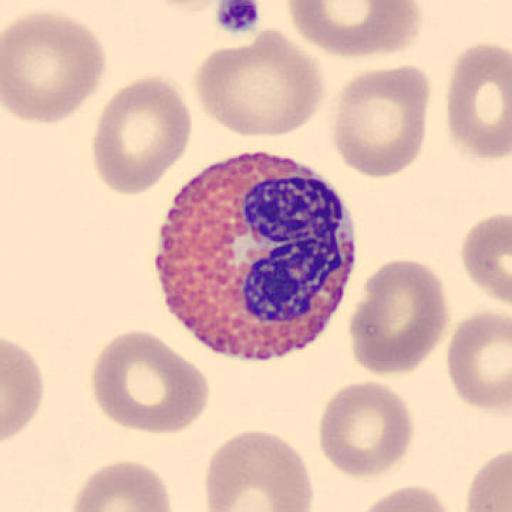RBC: (193, 26, 326, 140), (90, 328, 210, 435), (90, 74, 193, 197), (2, 8, 108, 126), (346, 257, 450, 376), (332, 64, 430, 178), (317, 378, 414, 480), (204, 429, 314, 512), (285, 0, 422, 59), (445, 42, 512, 160), (446, 308, 512, 412), (68, 458, 172, 512), (461, 211, 512, 305), (2, 335, 44, 442), (465, 448, 512, 512), (356, 484, 454, 512), (140, 0, 227, 14)
WBC: (154, 155, 360, 361)
